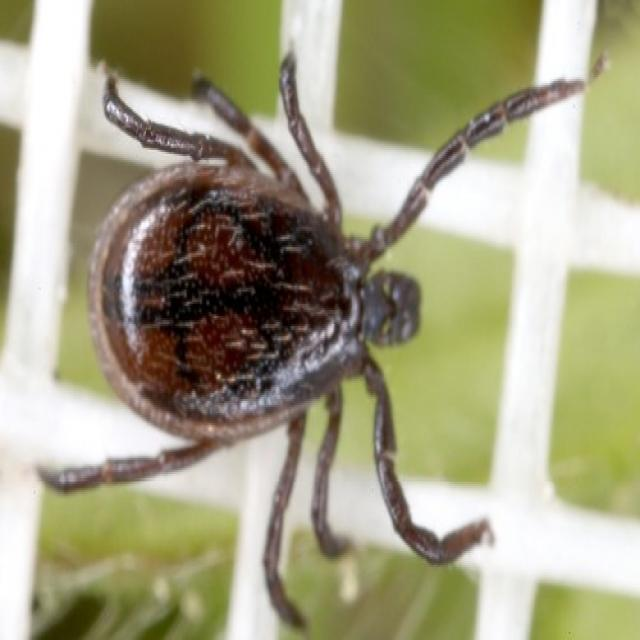Ixodes Ricinus-M: (37, 51, 591, 636)
